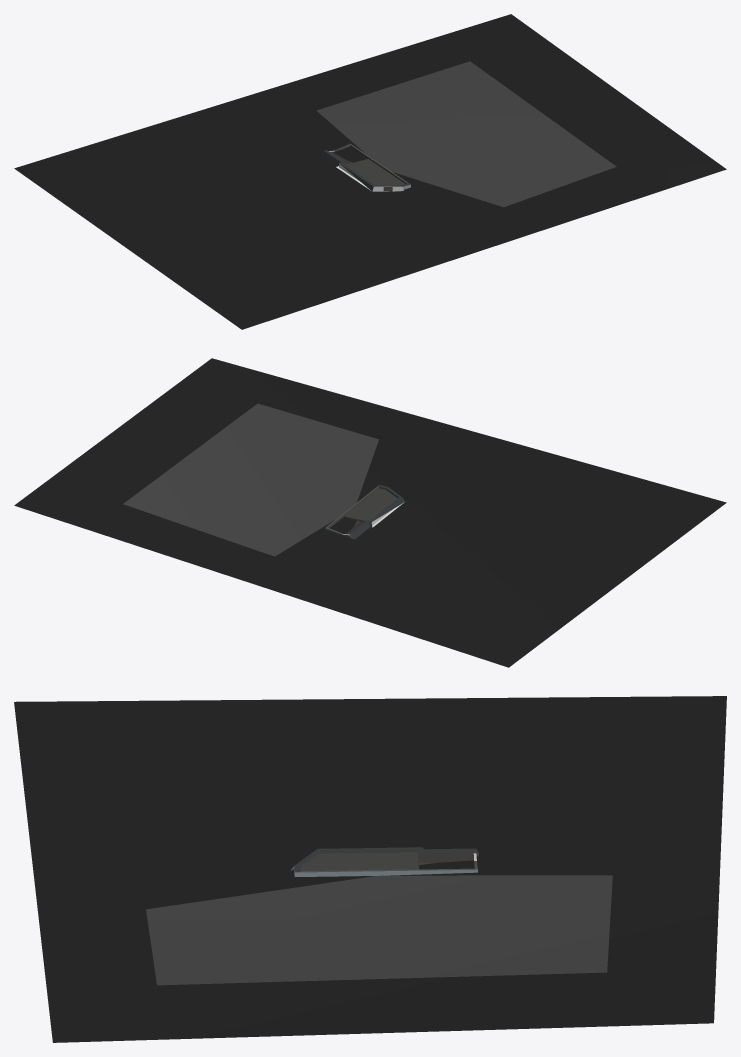
The model's file is jax-liquors.glb.
3 views of the same model, one above another, from view 1: azimuth 30°, elevation 25°; view 2: azimuth 150°, elevation 25°; view 3: azimuth 270°, elevation 25° (orthographic). The views are drawn at different scales.
Parts seen in each view (by area): view 1: LOD0; view 2: LOD0; view 3: LOD0.
Boxes of the visible parts, x1,y1,x2,y2 form: LOD0: [14, 14, 726, 329]; LOD0: [14, 358, 726, 667]; LOD0: [14, 696, 726, 1042].
Size of what is drawn, in the model's own units: 197 by 14.08 by 151.
2 materials, 2 textured.
